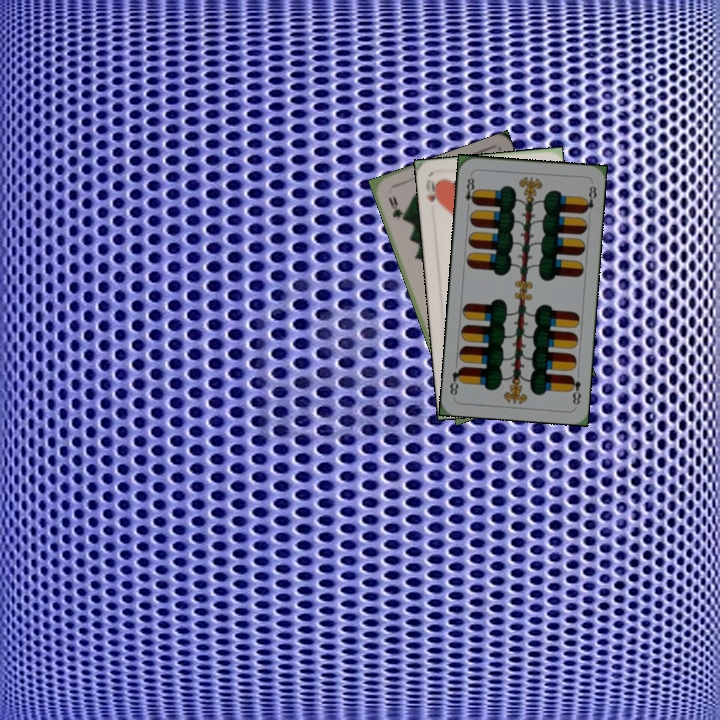E8: (461, 171, 479, 211), (565, 371, 584, 407)
G9: (384, 191, 406, 223)
HO: (422, 176, 441, 207)
